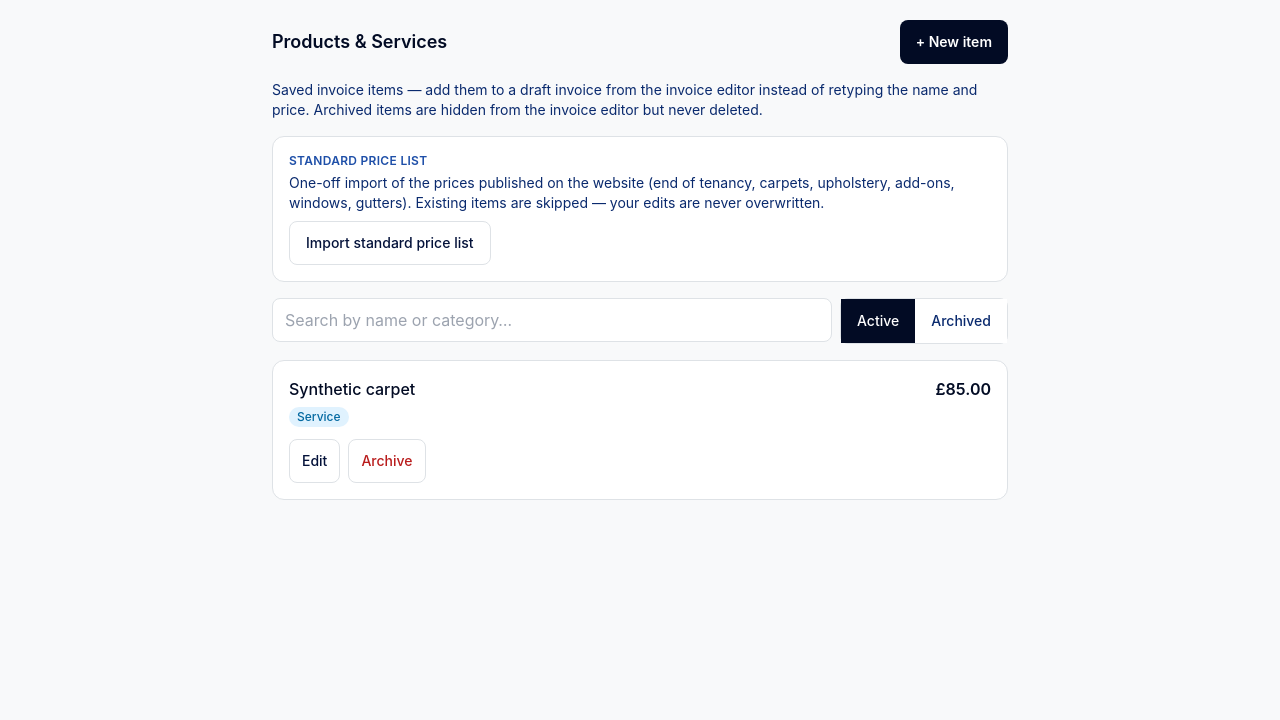
Test: CatalogueListPage request recovery › keeps a newly opened form when an earlier save finishes and reports the saved item
Click the button "Edit". click: (315, 461)
box: [289,439,340,483]
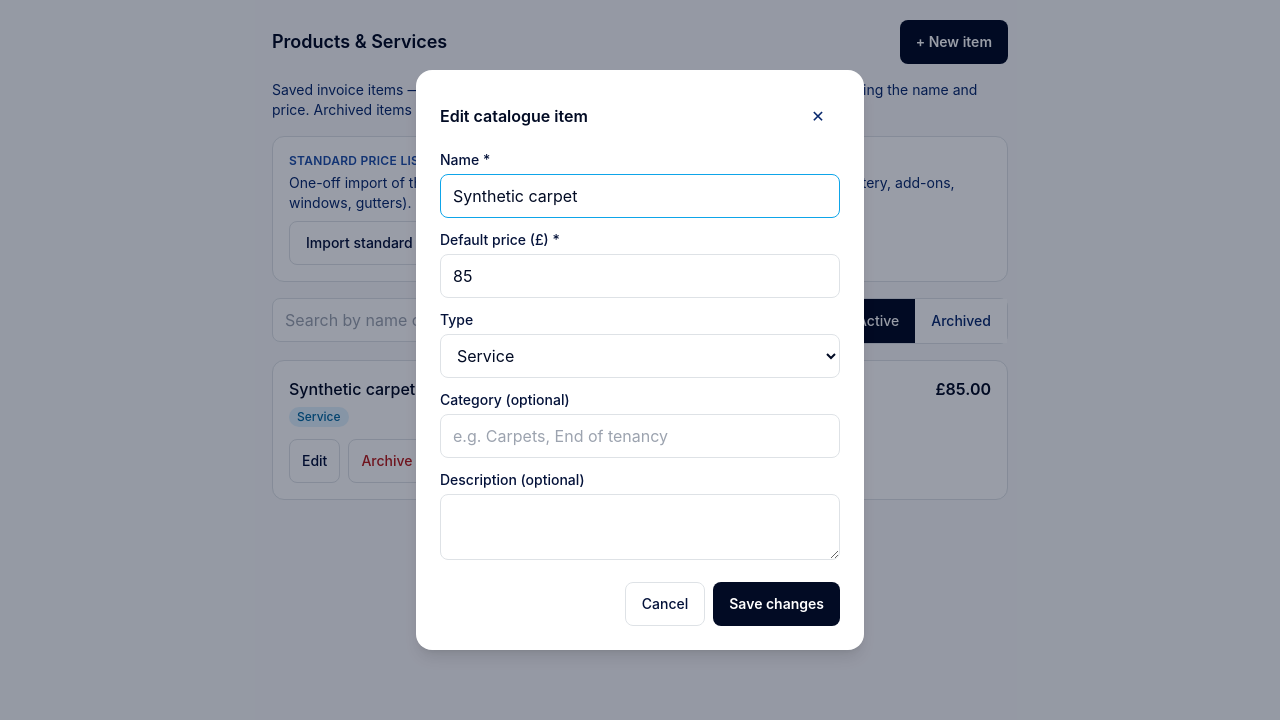
Click the button "Save changes". click: (777, 604)
box: [713,582,840,626]
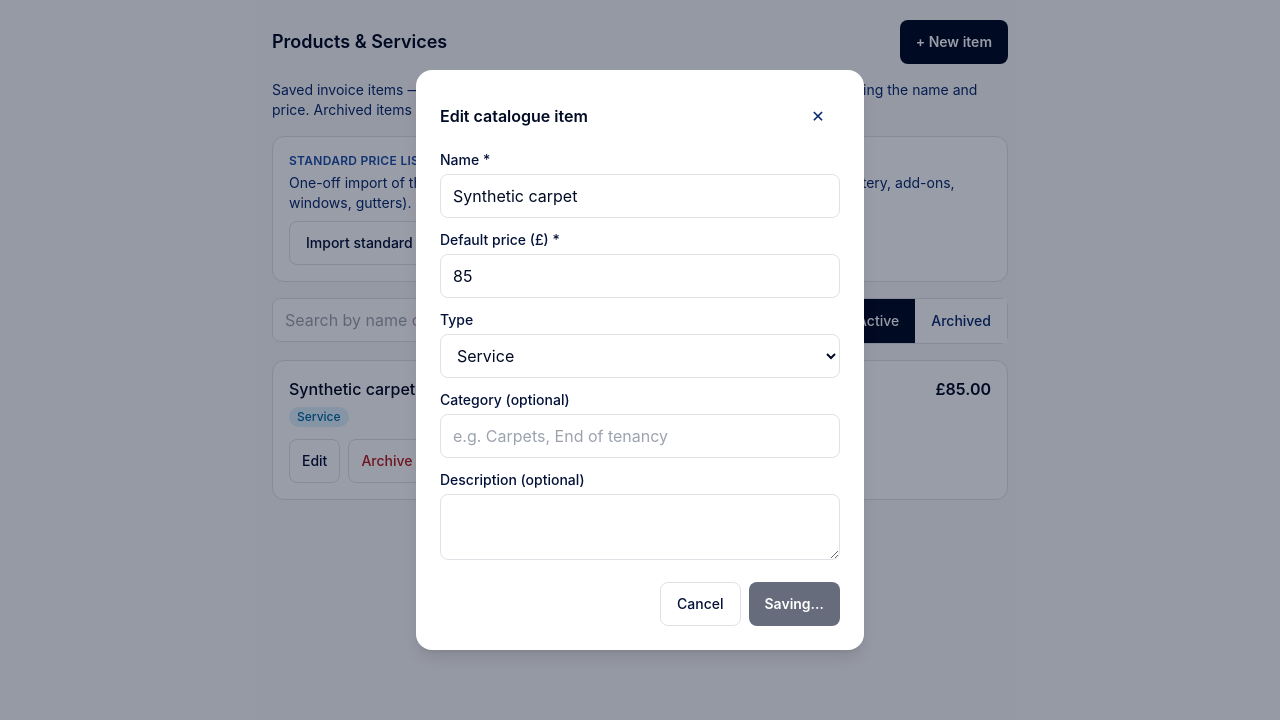
Click the button "Cancel". click: (700, 604)
box: [660,582,740,626]
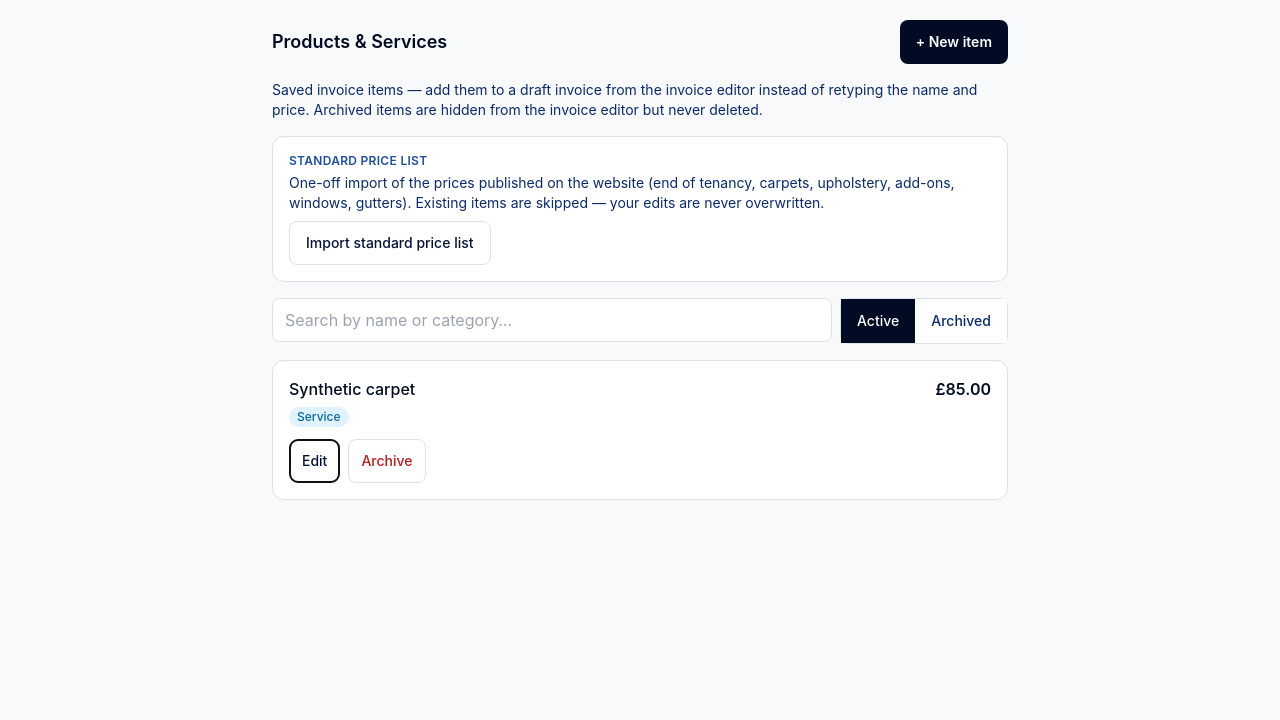
Click the button "+ New item". click: (954, 42)
box: [900,20,1008,64]
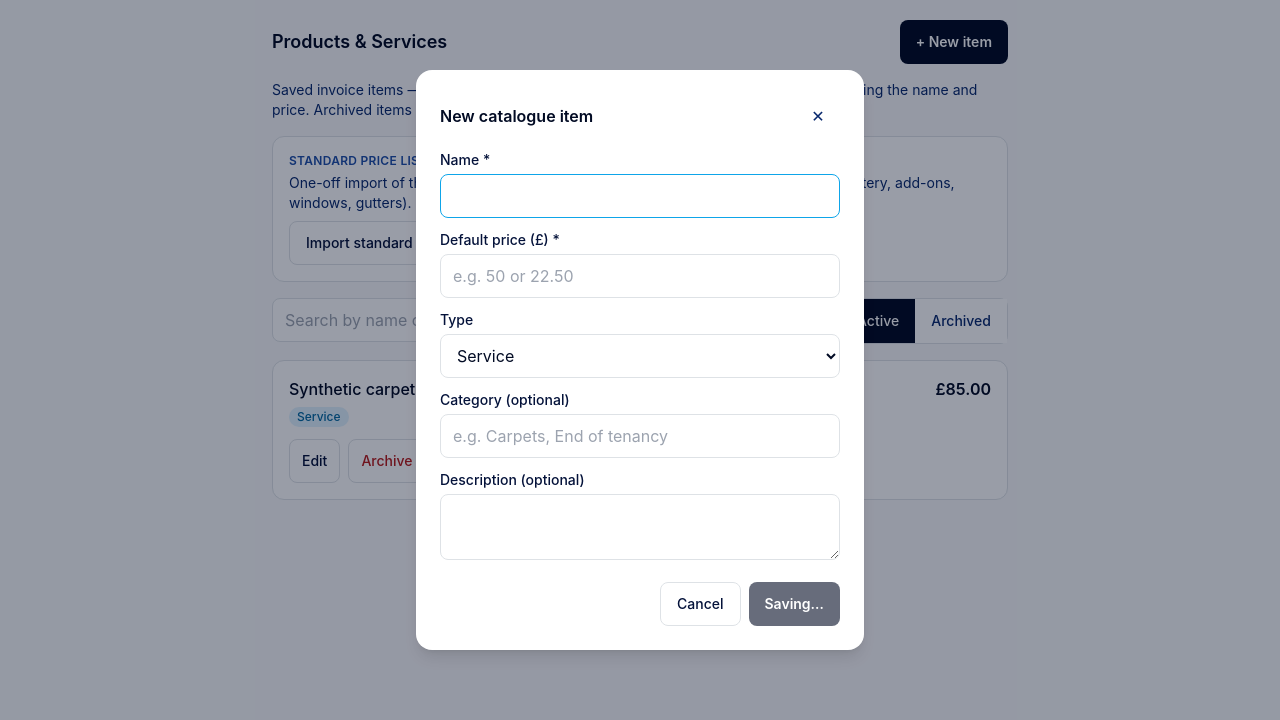
Type "Next synthetic item" into the field labelled "Name *". click: (640, 196)
box: [440,174,840,218]
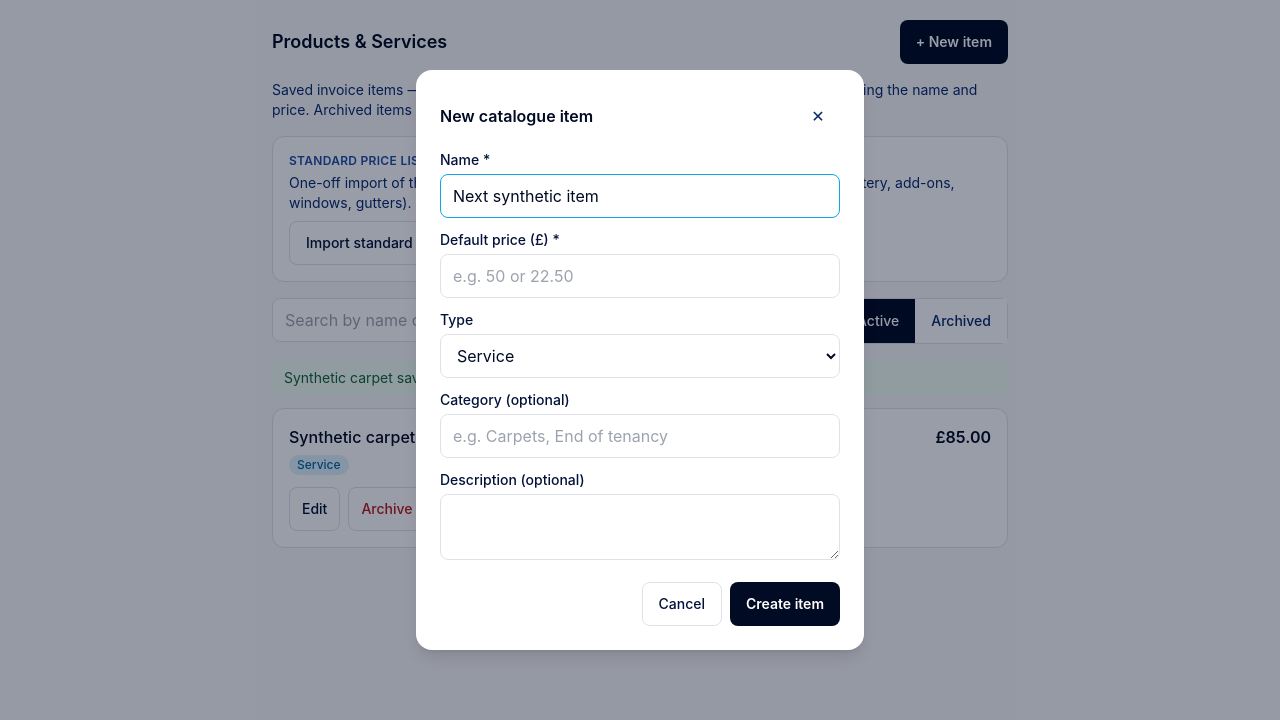
Expected: the message reads "Synthetic carpet saved.", [284,369,440,386]
